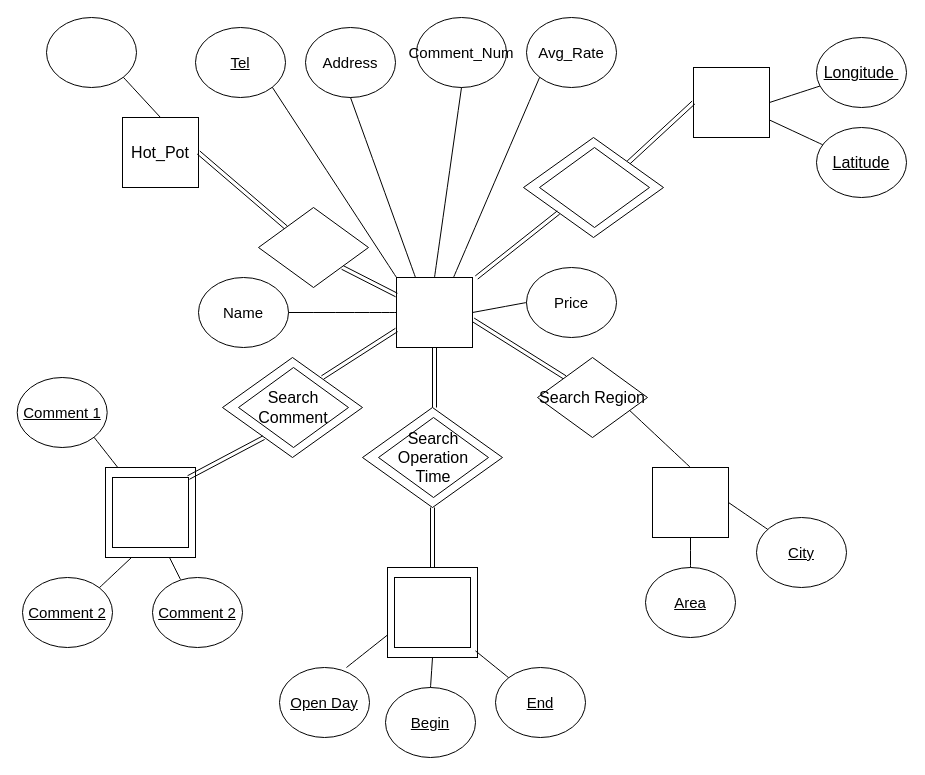
Some shapes in this 925 by 775 pixel diagram are drawn without their labels. The centre of each missing label's shape, as x and y in pixels:
Belong: point (313, 247)
Brand: point (91, 52)
Commentor: point (150, 512)
Operation: point (432, 612)
Region: point (690, 502)
Search Service: point (594, 187)
Service: point (731, 102)
Store: point (434, 312)
